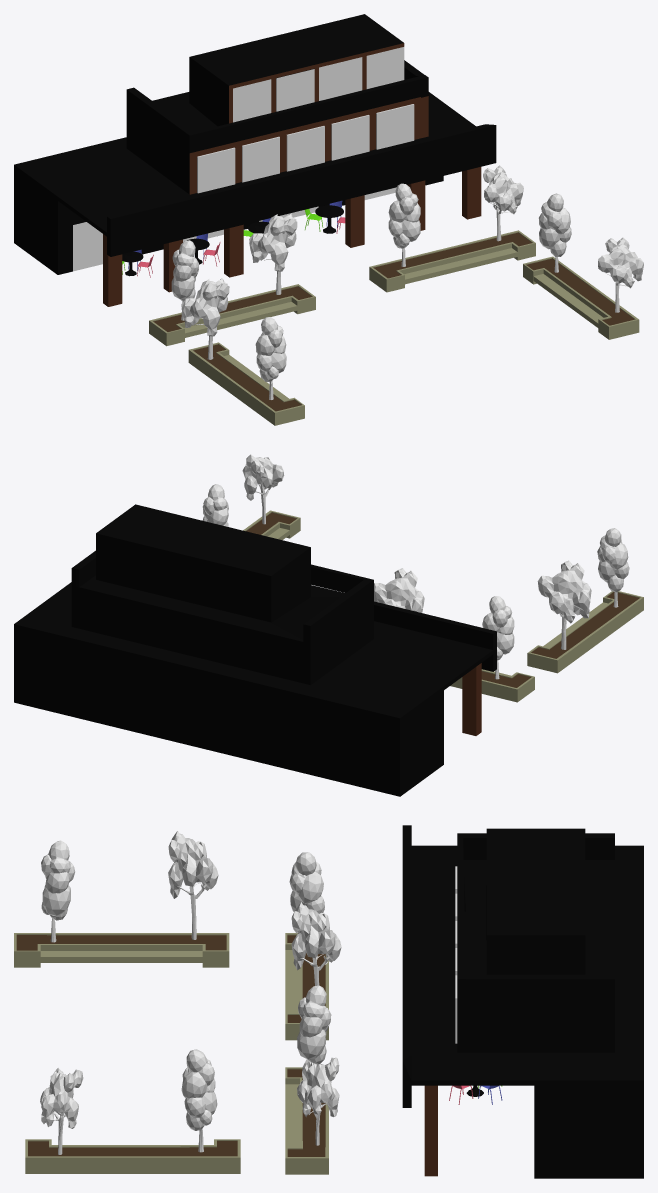
3 views of the same model, one above another, from view 1: azimuth 30°, elevation 25°; view 2: azimuth 150°, elevation 25°; view 3: azimuth 270°, elevation 25° (orthographic). The views are drawn at different scales.
Parts seen in each view (by area): view 1: avm13, _5_tree.001, _5_tree.002, _5_tree.003, _5_tree; view 2: avm13, _5_tree.002, _5_tree, _5_tree.003; view 3: avm13, _5_tree.002, _5_tree.003, _5_tree.001, _5_tree.
Boxes of the visible parts, x1,y1,x2,y2 form: avm13: (14,14,496,306); _5_tree.001: (369,165,535,292); _5_tree.002: (181,278,304,425); _5_tree.003: (523,193,643,339); _5_tree: (149,213,315,346); avm13: (14,504,496,796); _5_tree.002: (527,528,643,673); _5_tree: (374,568,534,702); _5_tree.003: (202,454,300,540); avm13: (402,825,643,1178); _5_tree.002: (14,831,229,967); _5_tree.003: (25,1049,240,1173); _5_tree.001: (285,985,339,1174); _5_tree: (285,852,341,1040).
Size of the model in its own units: 2359 by 942 by 2570.
12 materials, 1 textured.
